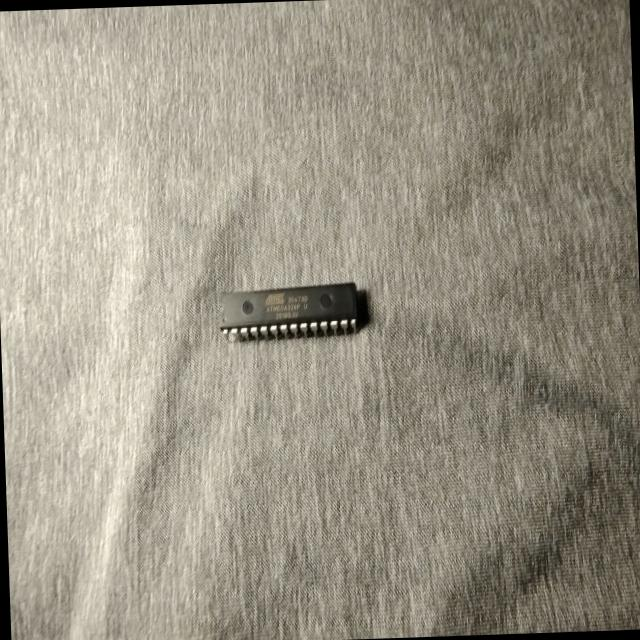atmega: (214, 279, 361, 345)
